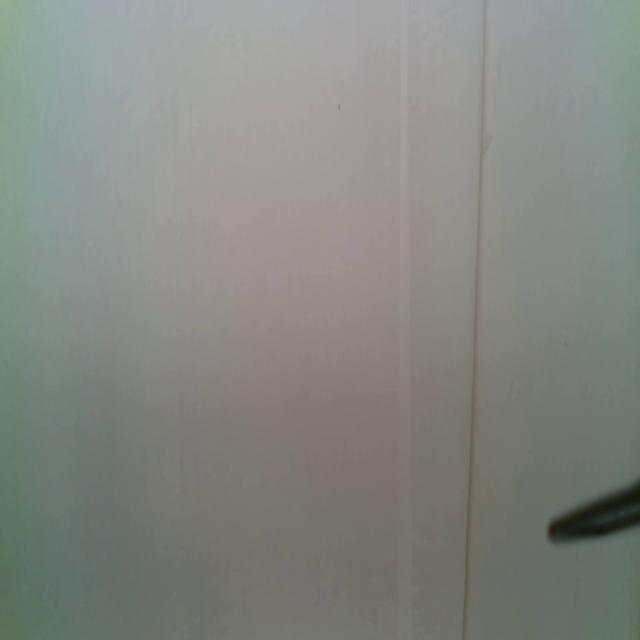crease: (461, 0, 488, 638), (397, 1, 414, 637)
hole: (338, 102, 342, 112)
